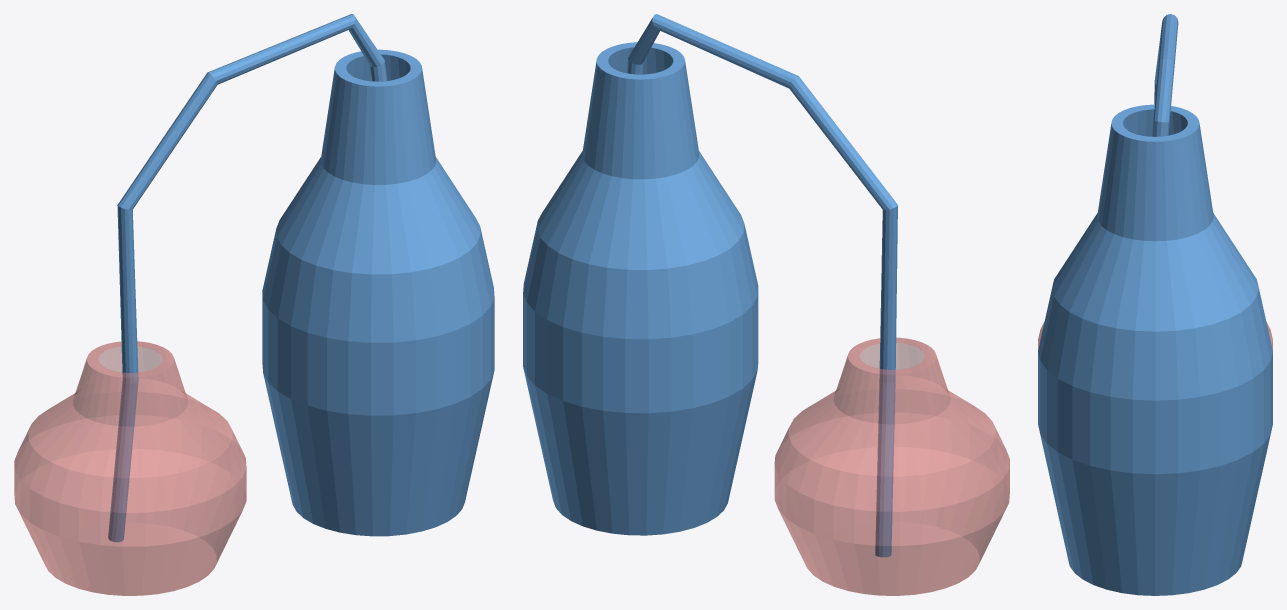
The model's file is bottels.fbx.
The picture shows the model from 3 angles, left to right: view 1: azimuth 30°, elevation 25°; view 2: azimuth 150°, elevation 25°; view 3: azimuth 270°, elevation 25°; orthographic projection.
Parts seen in each view (by area): view 1: Cylinder.001, Cylinder, Plane; view 2: Cylinder.001, Cylinder, Plane; view 3: Cylinder.001, Plane.
Part boxes in pixels (x1=…): Cylinder.001: x1=262, y1=49, x2=494, y2=536; Cylinder: x1=14, y1=341, x2=246, y2=595; Plane: x1=108, y1=14, x2=387, y2=542; Cylinder.001: x1=523, y1=42, x2=758, y2=535; Cylinder: x1=774, y1=337, x2=1009, y2=595; Plane: x1=627, y1=14, x2=897, y2=557; Cylinder.001: x1=1038, y1=104, x2=1272, y2=595; Plane: x1=1152, y1=14, x2=1178, y2=136.
Size of the model in its own units: 324 by 335 by 145.
